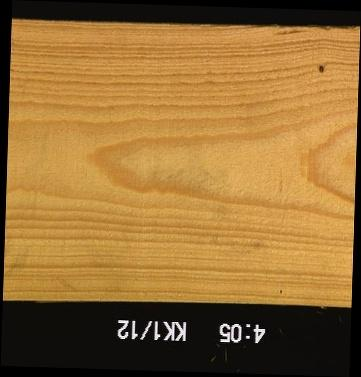dry_knot: (317, 63, 324, 74)
